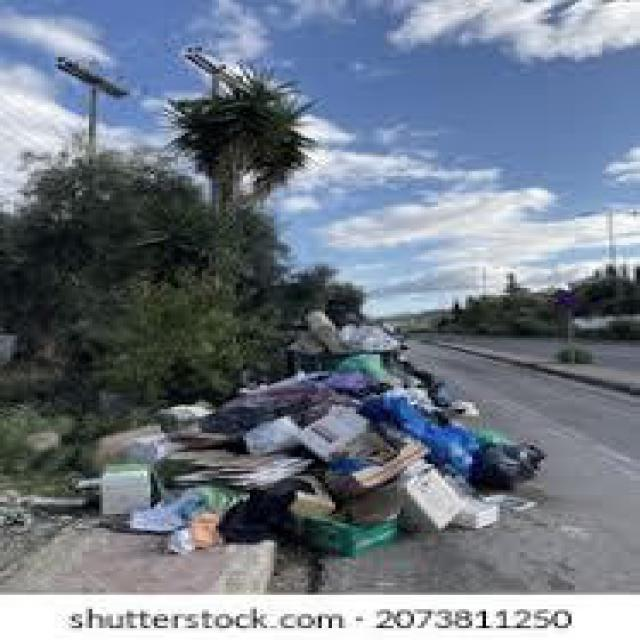garbage: (99, 409, 517, 533), (291, 319, 411, 402)
